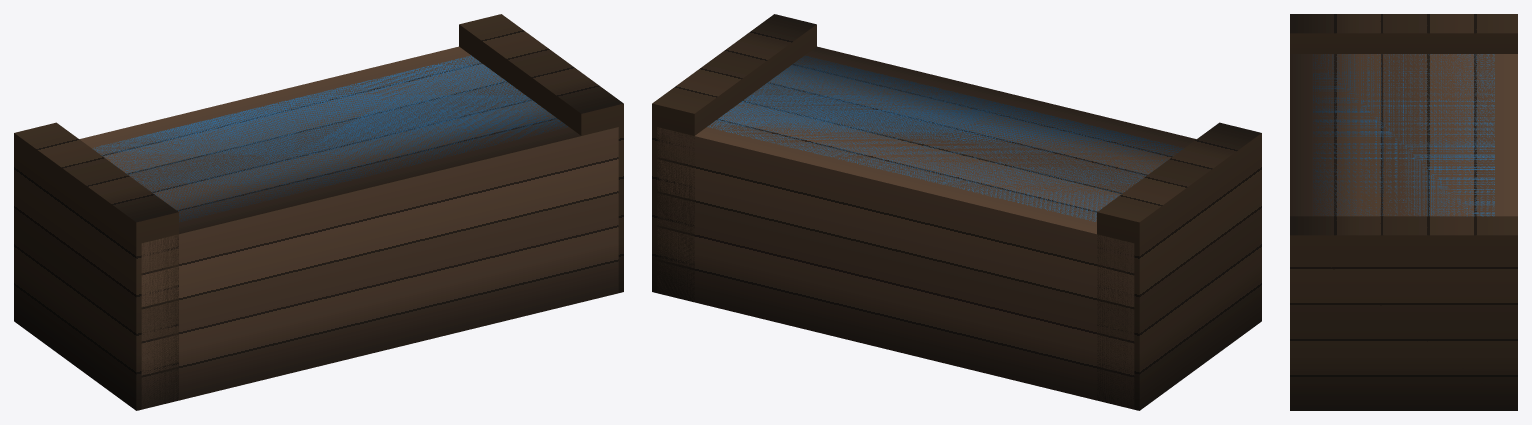
File: trough.gltf
The picture shows the model from 3 angles, left to right: view 1: azimuth 30°, elevation 25°; view 2: azimuth 150°, elevation 25°; view 3: azimuth 270°, elevation 25°; orthographic projection. The views are drawn at different scales.
Visible parts, largest first — view 1: trough; view 2: trough; view 3: trough.
Boxes of the visible parts, box(x1,y1,x2,y2) form: trough: box(14, 14, 623, 410); trough: box(652, 14, 1261, 410); trough: box(1290, 14, 1517, 410).
Bounding box in the file's own units: 0.92 × 0.34 × 0.4.
1 material, 1 textured.
